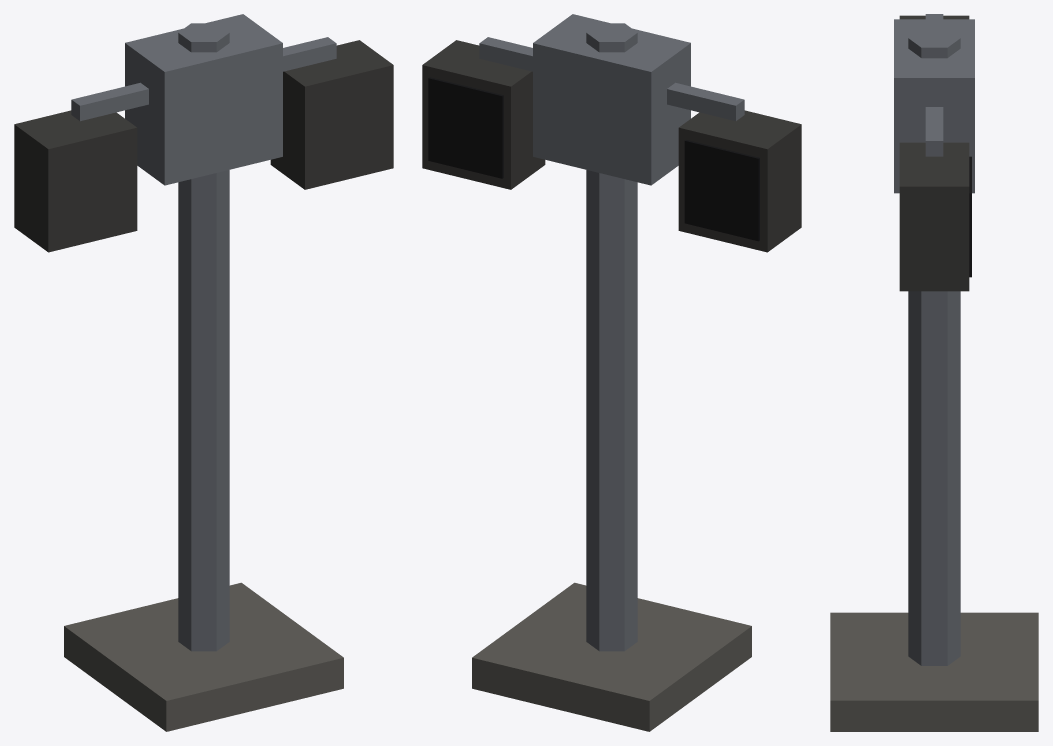
The model's file is SpeakerPost.obj.
3 views of the same model, side by side, from view 1: azimuth 30°, elevation 25°; view 2: azimuth 150°, elevation 25°; view 3: azimuth 270°, elevation 25° (orthographic).
Visible parts, largest first — view 1: SpeakerPost; view 2: SpeakerPost; view 3: SpeakerPost.
Part boxes in pixels (x1,y1,x2,y2): SpeakerPost: (14,14,393,731); SpeakerPost: (422,14,801,731); SpeakerPost: (830,14,1038,731).
Size of the model in its own units: 0.7 by 1.24 by 0.36.
1 material, 1 textured.
